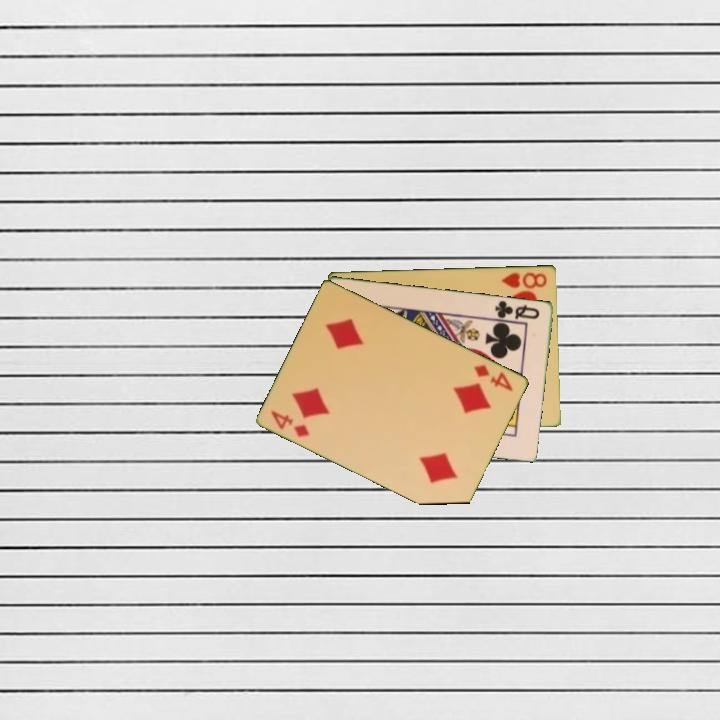4d: (267, 406, 313, 440), (470, 361, 516, 394)
8h: (498, 268, 550, 291)
Qc: (492, 297, 543, 322)
